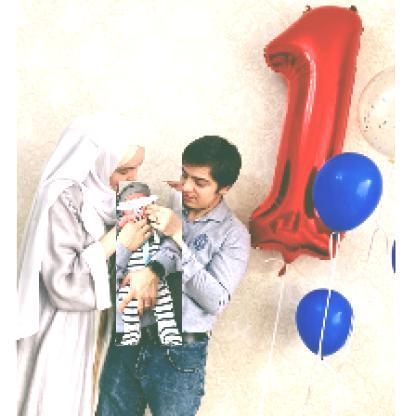child: (117, 182, 184, 347)
